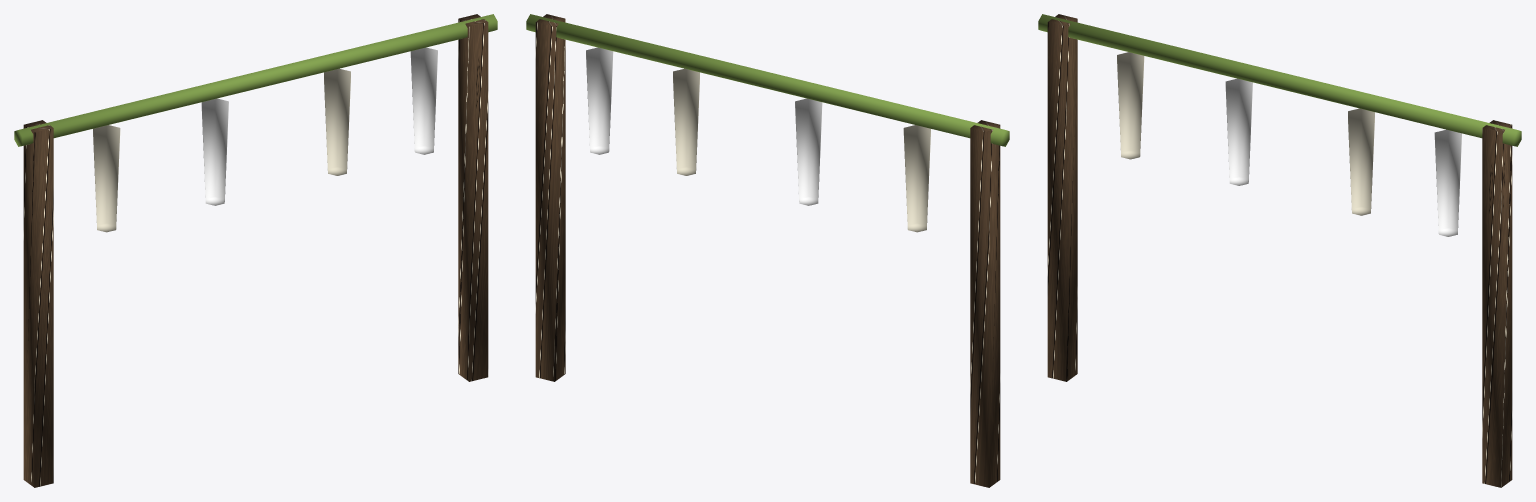
Rendered from drying_rack.glb.
3 views of the same model, side by side, from view 1: azimuth 30°, elevation 25°; view 2: azimuth 150°, elevation 25°; view 3: azimuth 330°, elevation 25° (orthographic).
Visible parts, largest first — view 1: geometry_0, geometry_1; view 2: geometry_0, geometry_1; view 3: geometry_0, geometry_1.
Part boxes in pixels (x1=…): geometry_0: x1=23, y1=14, x2=488, y2=487; geometry_1: x1=14, y1=14, x2=497, y2=232; geometry_0: x1=535, y1=14, x2=1000, y2=487; geometry_1: x1=526, y1=14, x2=1009, y2=232; geometry_0: x1=1047, y1=14, x2=1512, y2=487; geometry_1: x1=1038, y1=14, x2=1521, y2=236.
Size of the model in its own units: 1.75 by 1.25 by 0.0866.
Materials: 2 (1 with a texture image).
